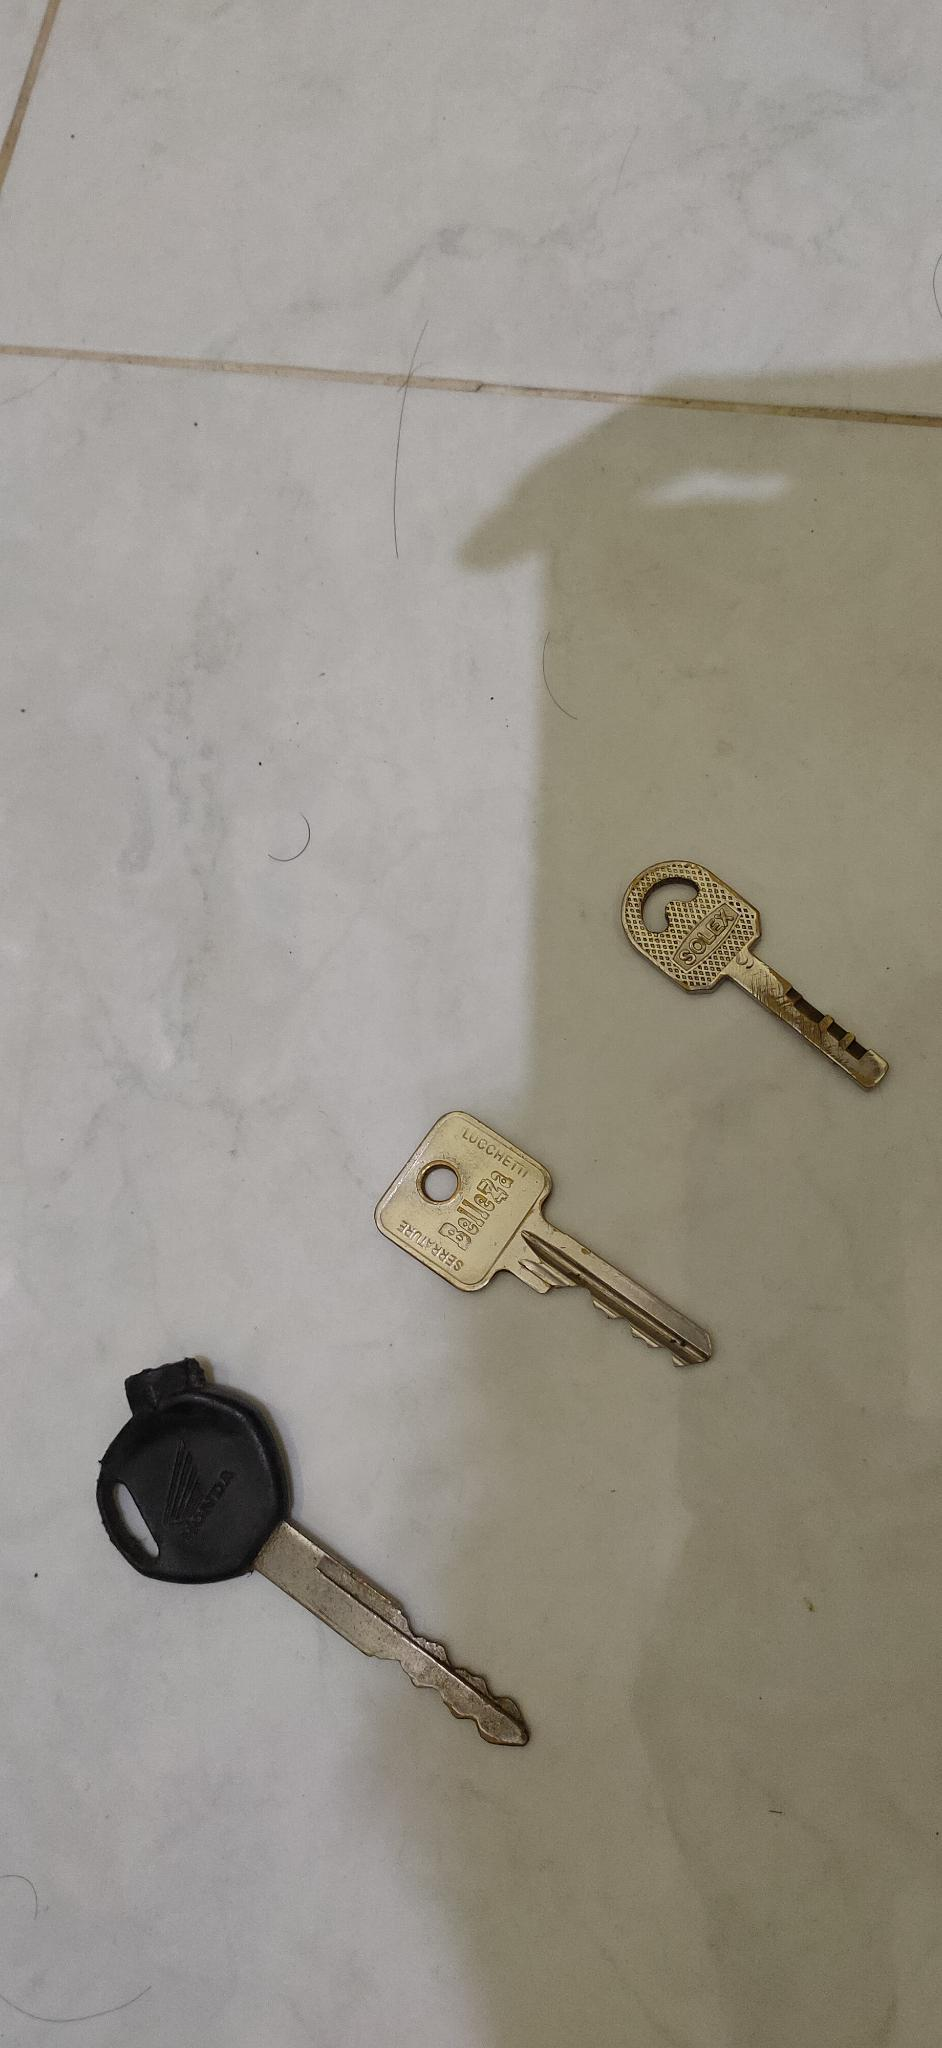keys: (61, 1352, 541, 1785), (368, 1096, 720, 1401), (621, 845, 905, 1131)
